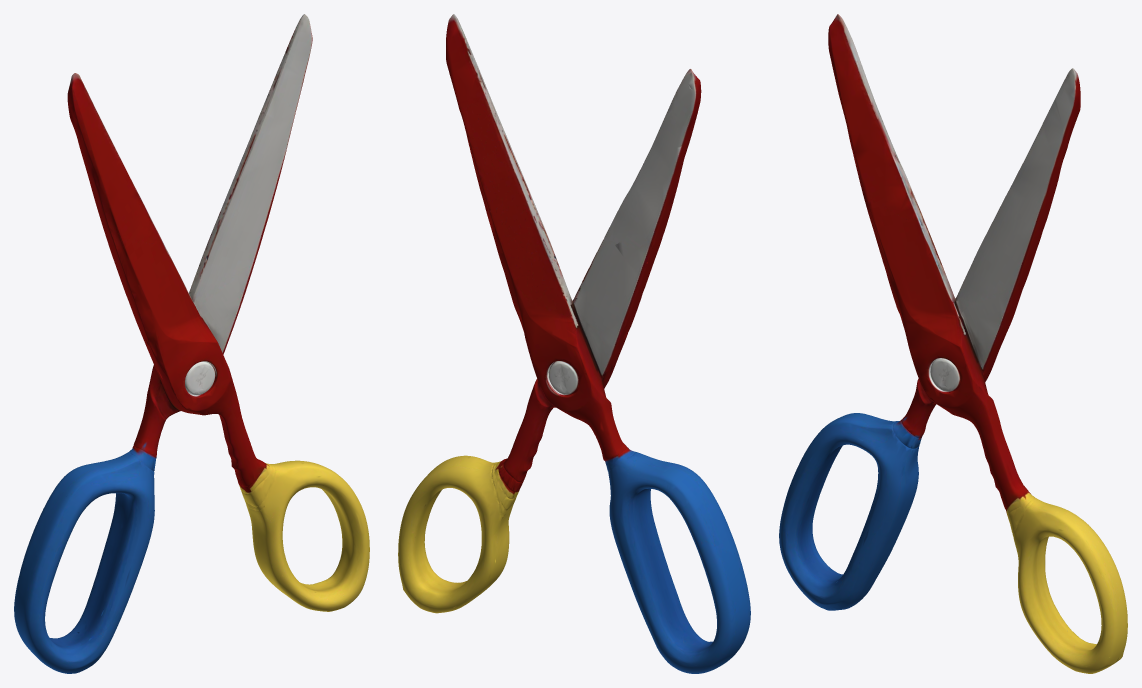
3 renders of one model, left to right at view 1: azimuth 30°, elevation 25°; view 2: azimuth 150°, elevation 25°; view 3: azimuth 330°, elevation 25°, orthographic.
Visible parts, largest first — view 1: node_0; view 2: node_0; view 3: node_0.
Boxes of the visible parts, <box> form: node_0: <box>14,14,369,673</box>; node_0: <box>398,14,750,673</box>; node_0: <box>779,14,1127,673</box>.
Size of the model in its own units: 0.6411 by 1.07 by 0.0837.
Materials: 1 (1 with a texture image).
